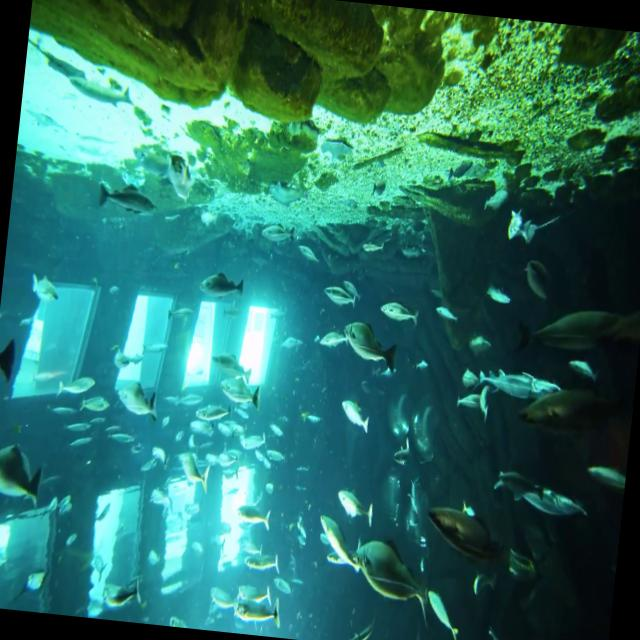fish: (354, 536, 440, 620), (341, 314, 398, 378)
